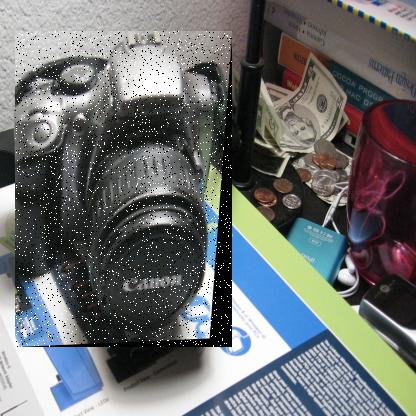Camera: (16, 32, 234, 349)
